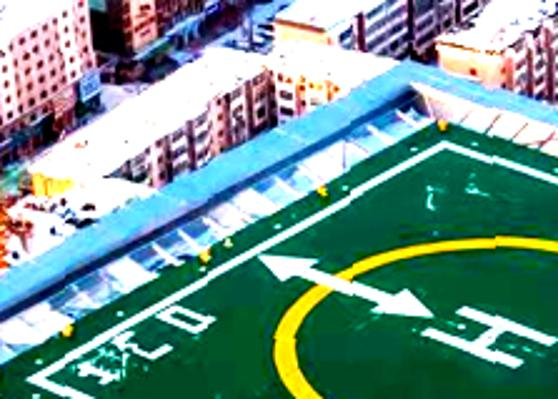Apron: (272, 231, 558, 398)
